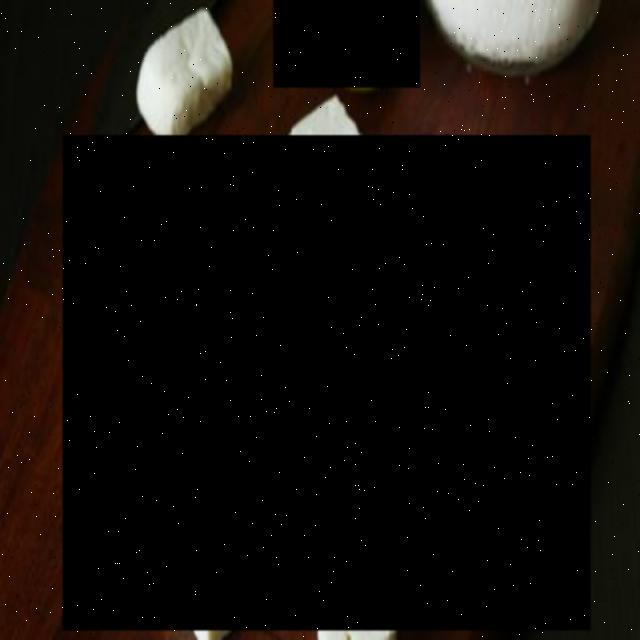Lime: (274, 0, 422, 88)
Paneer: (64, 136, 592, 631)
